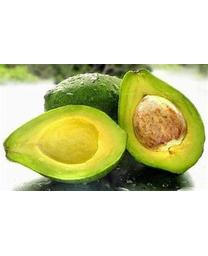avocado: (4, 106, 130, 185), (117, 67, 206, 175), (43, 71, 140, 143)
